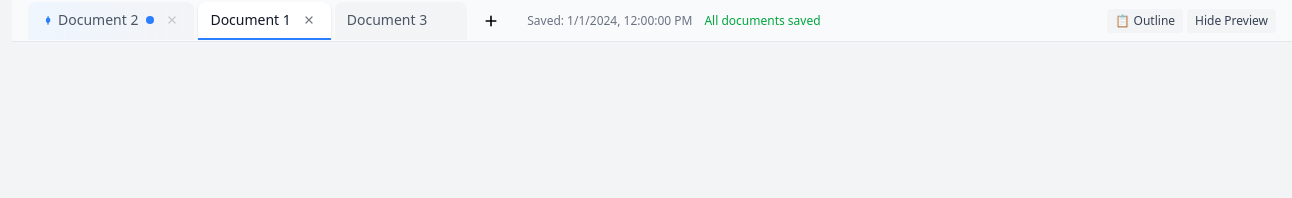
Test: TabBar › Tab Pinning Functionality › shows context menu with pin/unpin option
Right-click to open context menu
Right-click the element showing "Document 1": (265,20) left=198, top=2, right=331, bottom=40
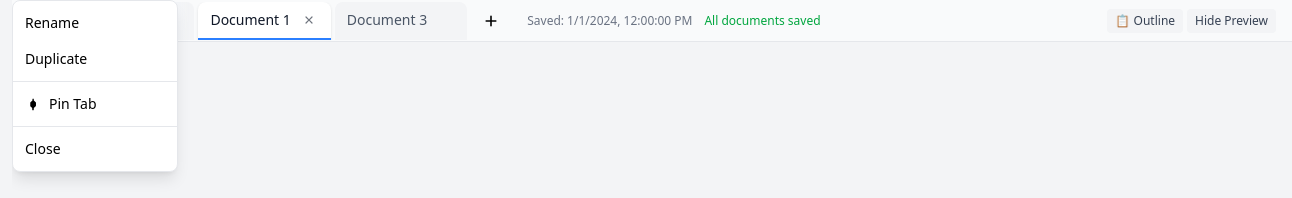
Check: the text "Pin Tab" is shown, box left=13, top=86, right=177, bottom=122
